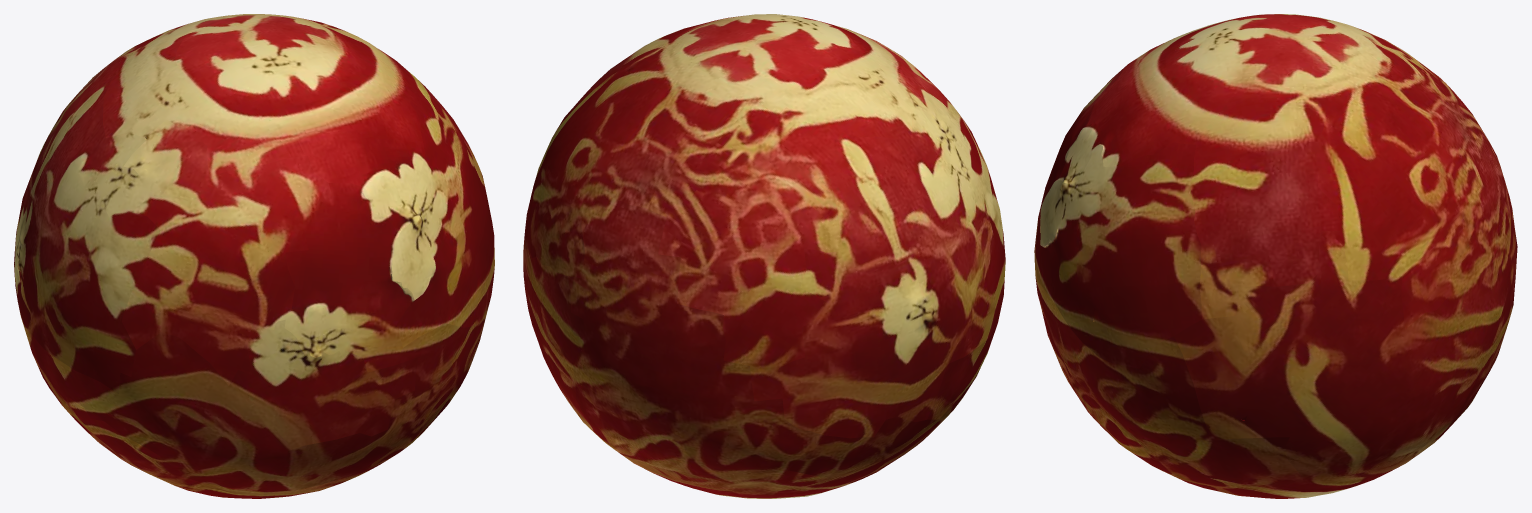
The model's file is ball.glb.
3 views of the same model, side by side, from view 1: azimuth 30°, elevation 25°; view 2: azimuth 150°, elevation 25°; view 3: azimuth 270°, elevation 25° (orthographic).
Visible parts, largest first — view 1: geometry_0; view 2: geometry_0; view 3: geometry_0.
Boxes of the visible parts, x1,y1,x2,y2 form: geometry_0: (14, 14, 494, 498); geometry_0: (523, 14, 1005, 498); geometry_0: (1034, 14, 1517, 498).
Bounding box in the file's own units: 0.06 × 0.0602 × 0.06.
1 material, 1 textured.
